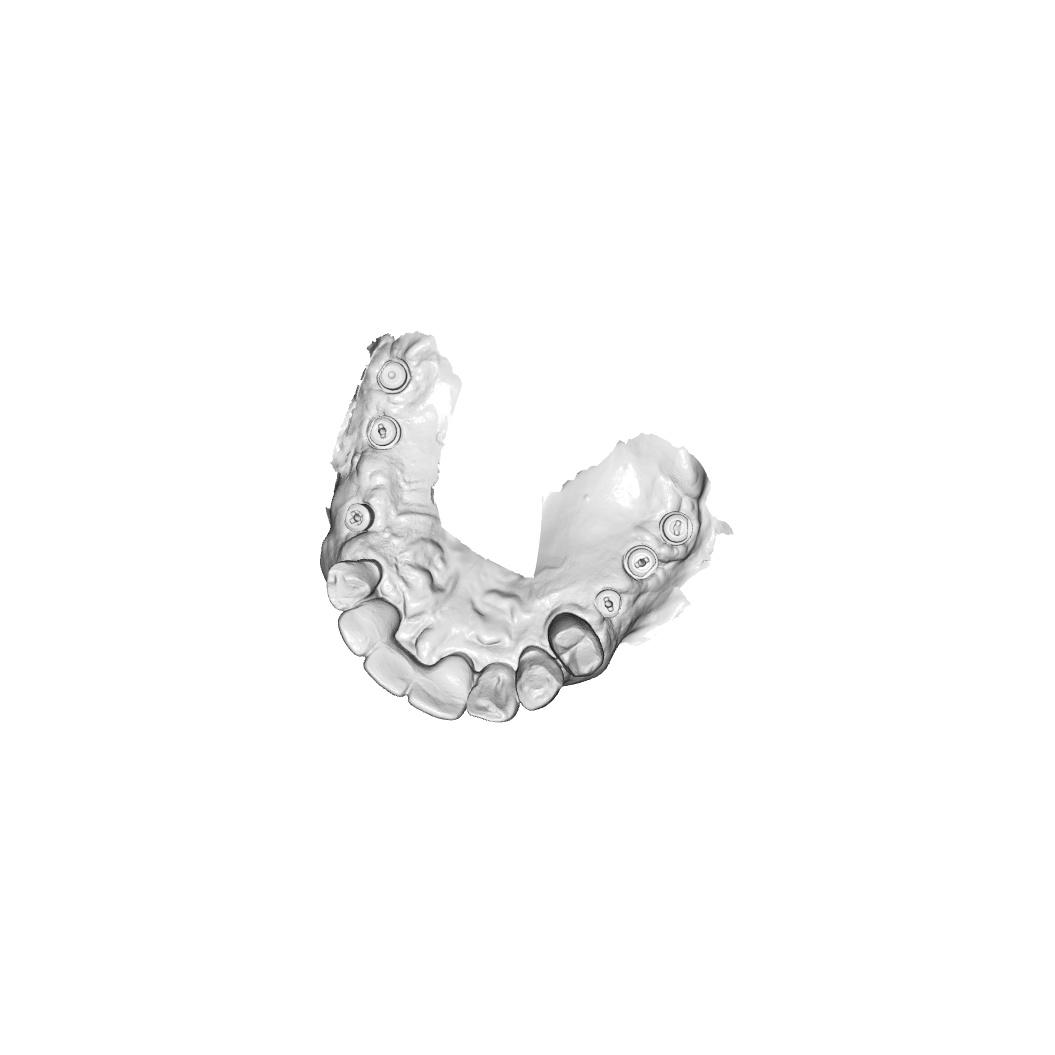canine: (515, 644, 565, 713), (325, 557, 383, 612)
implant: (376, 356, 412, 395)
implant_minus: (657, 510, 694, 547), (622, 544, 659, 581), (366, 415, 403, 451), (593, 588, 623, 619)
implant_plus: (343, 502, 376, 534)
incisor: (407, 653, 474, 722), (337, 597, 401, 658), (466, 661, 521, 724), (363, 641, 418, 698)
premolar: (547, 610, 604, 678)
